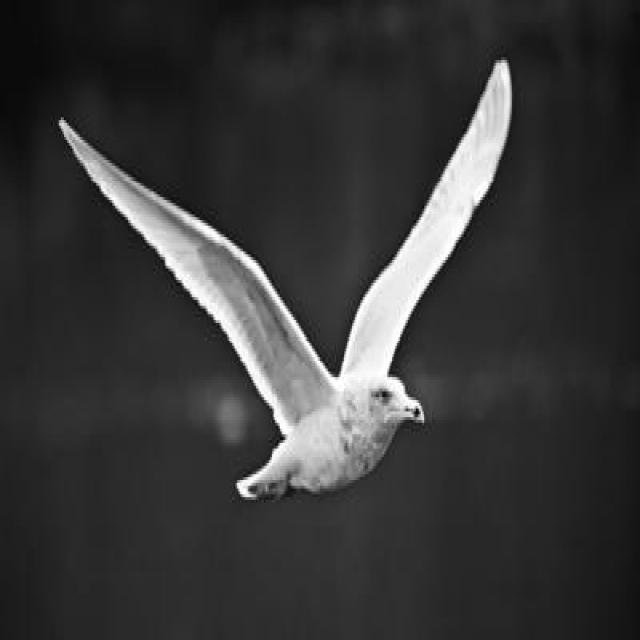birds: (44, 46, 516, 515)
